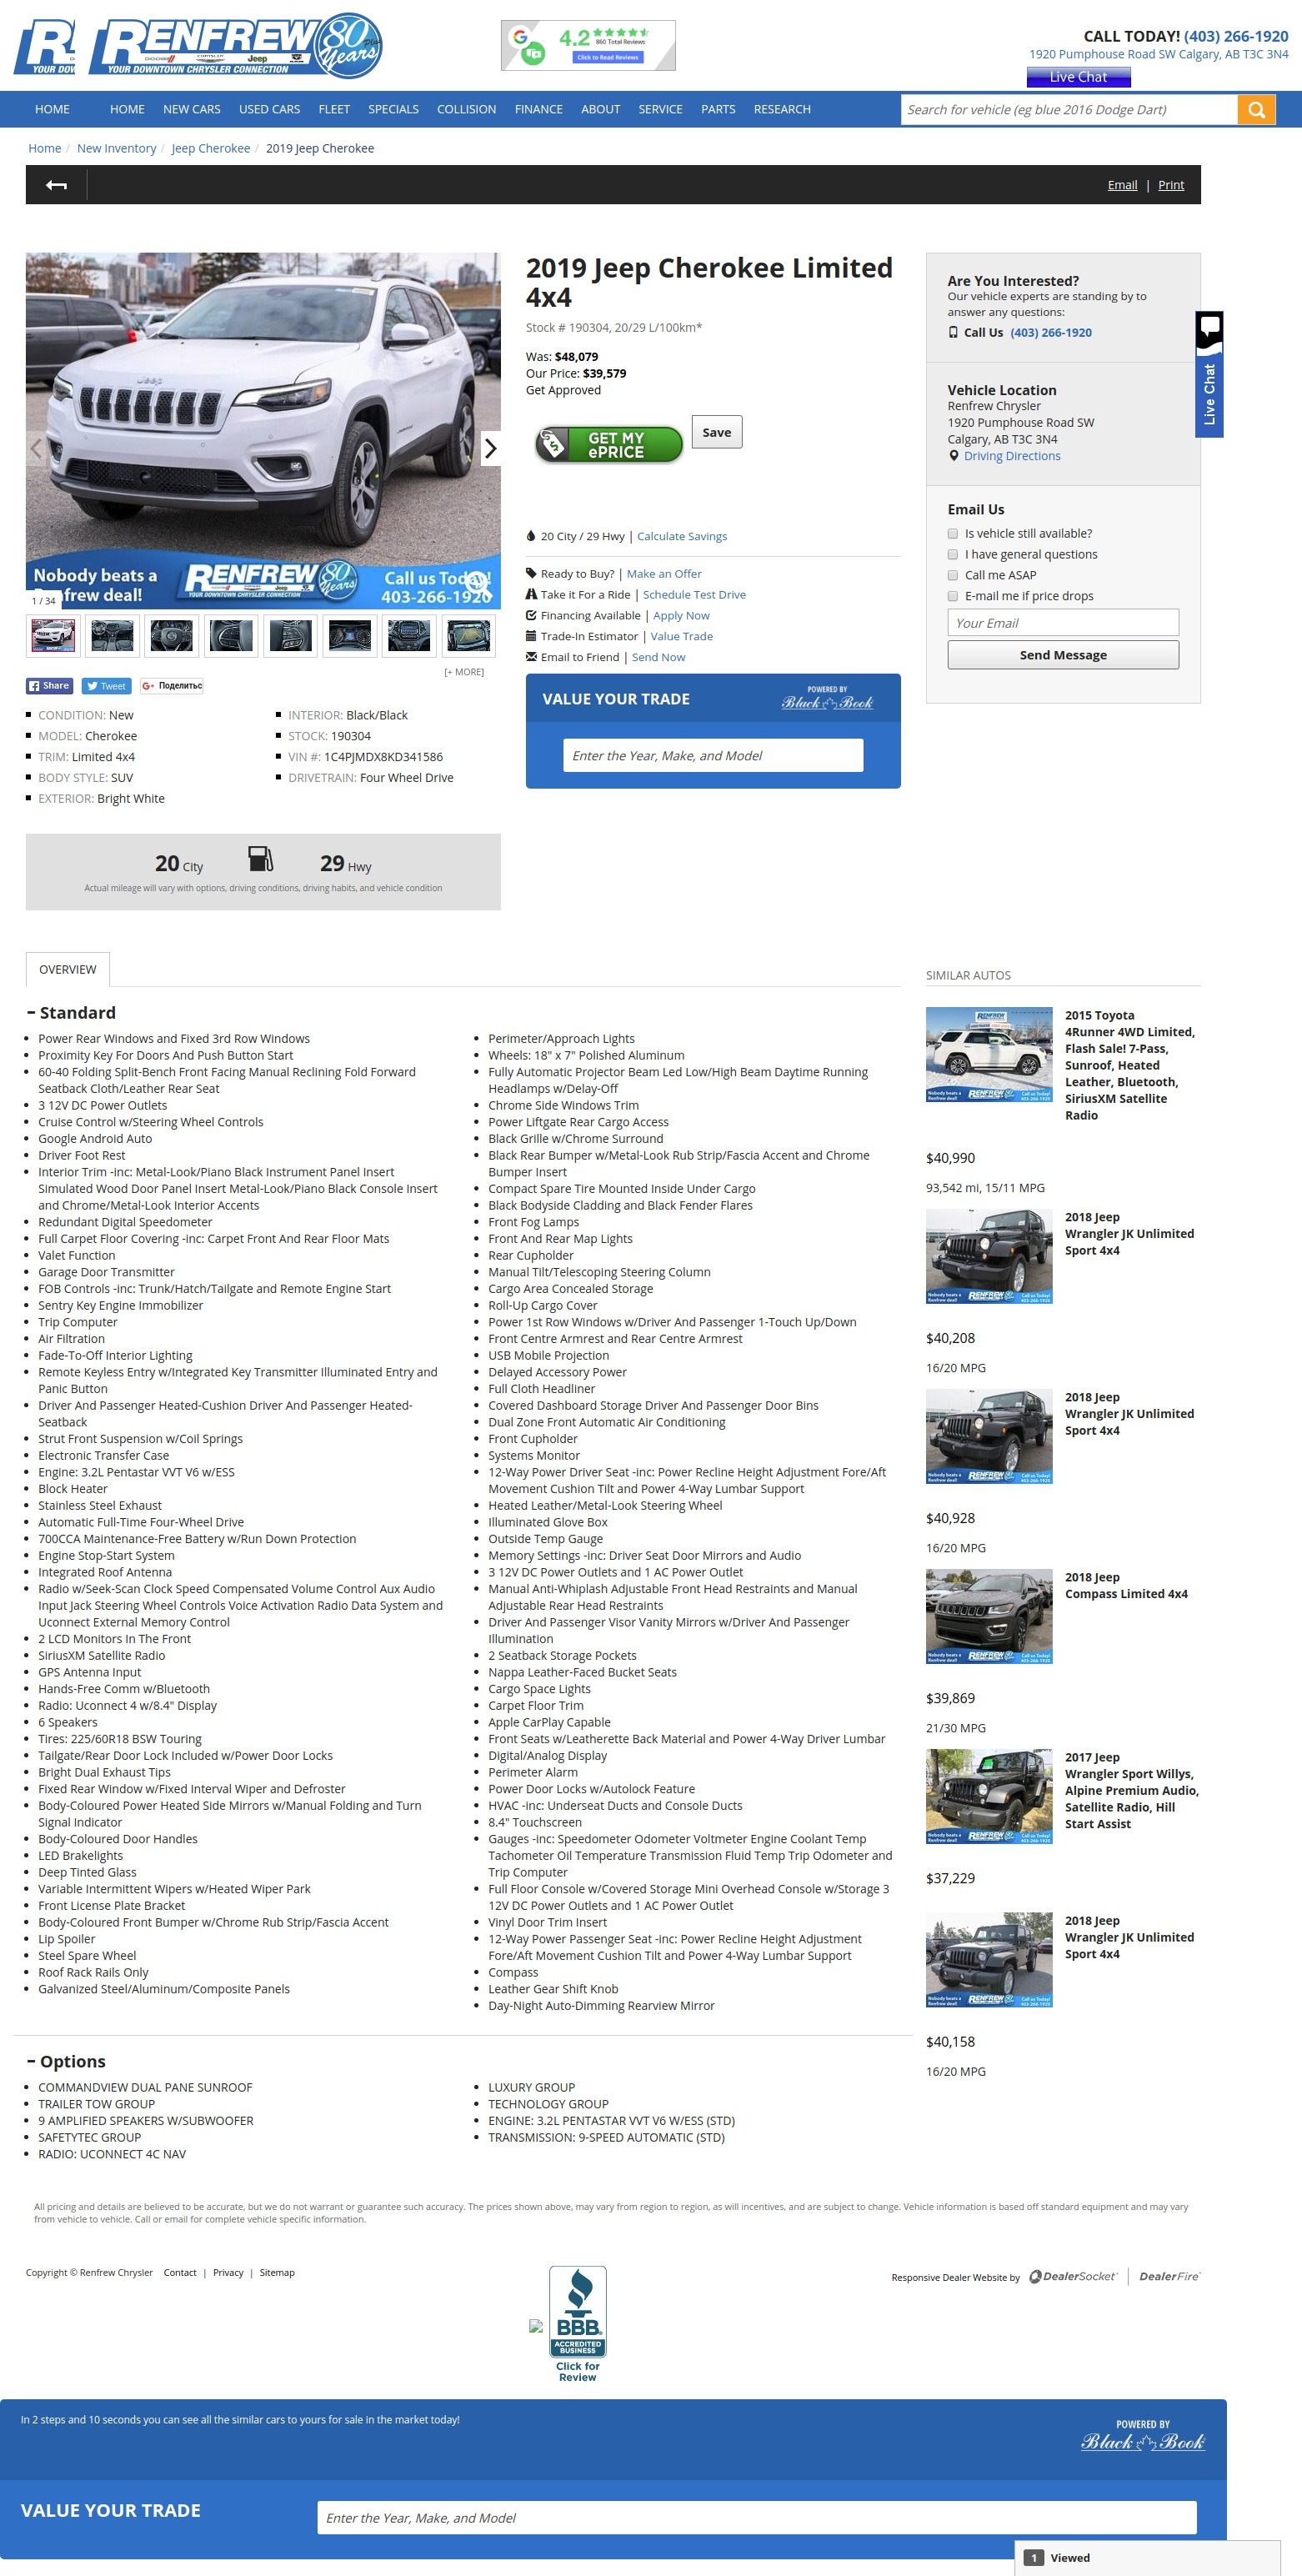car: (485, 438, 498, 460)
